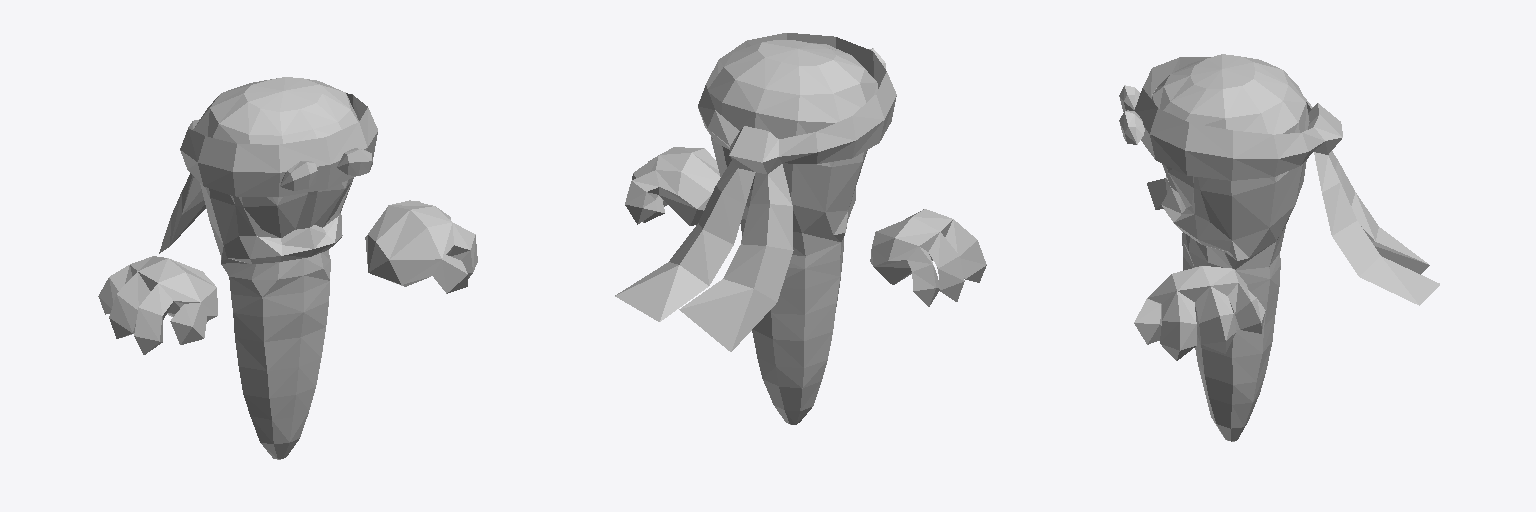
Rendered from worm.obj.
3 views of the same model, side by side, from view 1: azimuth 30°, elevation 25°; view 2: azimuth 150°, elevation 25°; view 3: azimuth 270°, elevation 25° (orthographic).
Parts seen in each view (by area): view 1: Inst3D_RefRep.330_Ref; view 2: Inst3D_RefRep.330_Ref; view 3: Inst3D_RefRep.330_Ref.
Boxes of the visible parts, box(x1,y1,x2,y2) form: Inst3D_RefRep.330_Ref: box(98, 77, 477, 459); Inst3D_RefRep.330_Ref: box(615, 33, 986, 424); Inst3D_RefRep.330_Ref: box(1119, 54, 1439, 441).
Size of the model in its own units: 4.03 by 4.18 by 3.27.